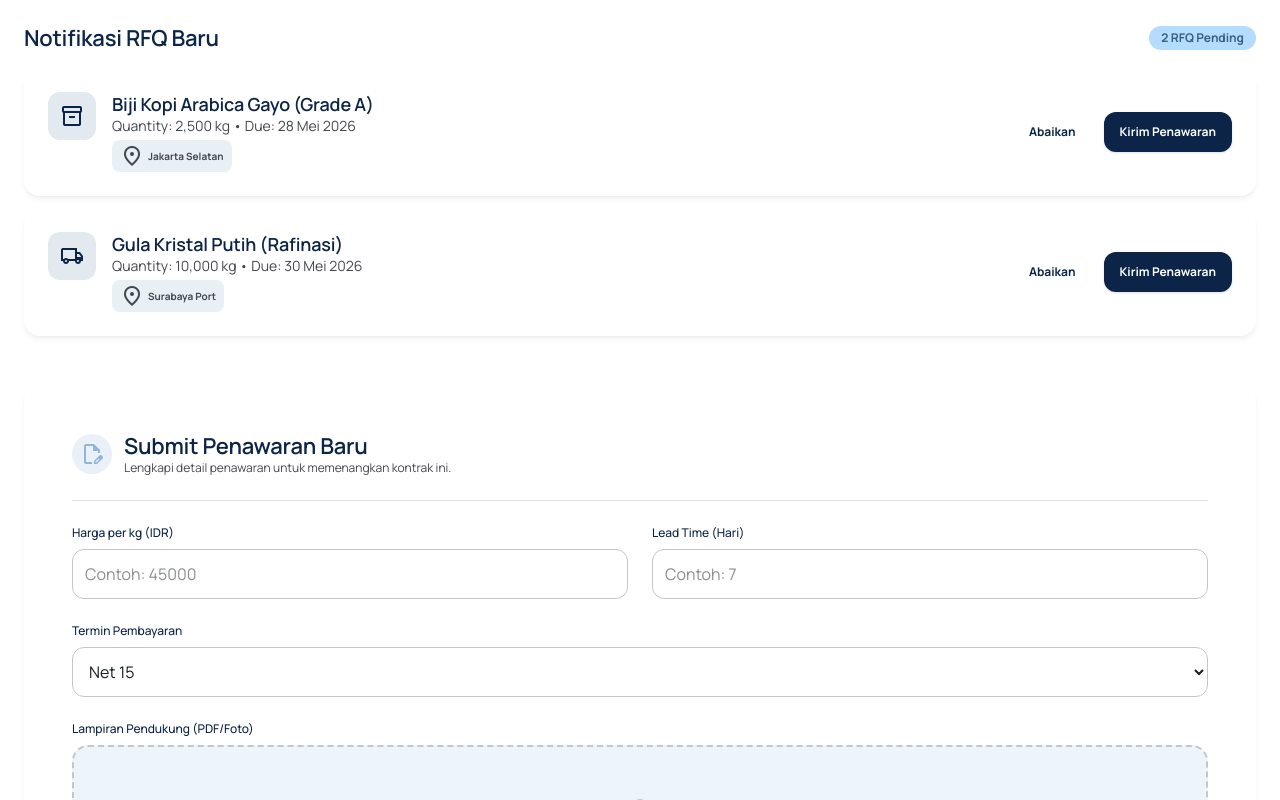
Test case: VendorPortalPage › removes a notification and toasts when dismissed
Click the button "Abaikan" in the row of "Biji Kopi Arabica Gayo (Grade A)": (1052, 132) [1013, 112, 1092, 152]
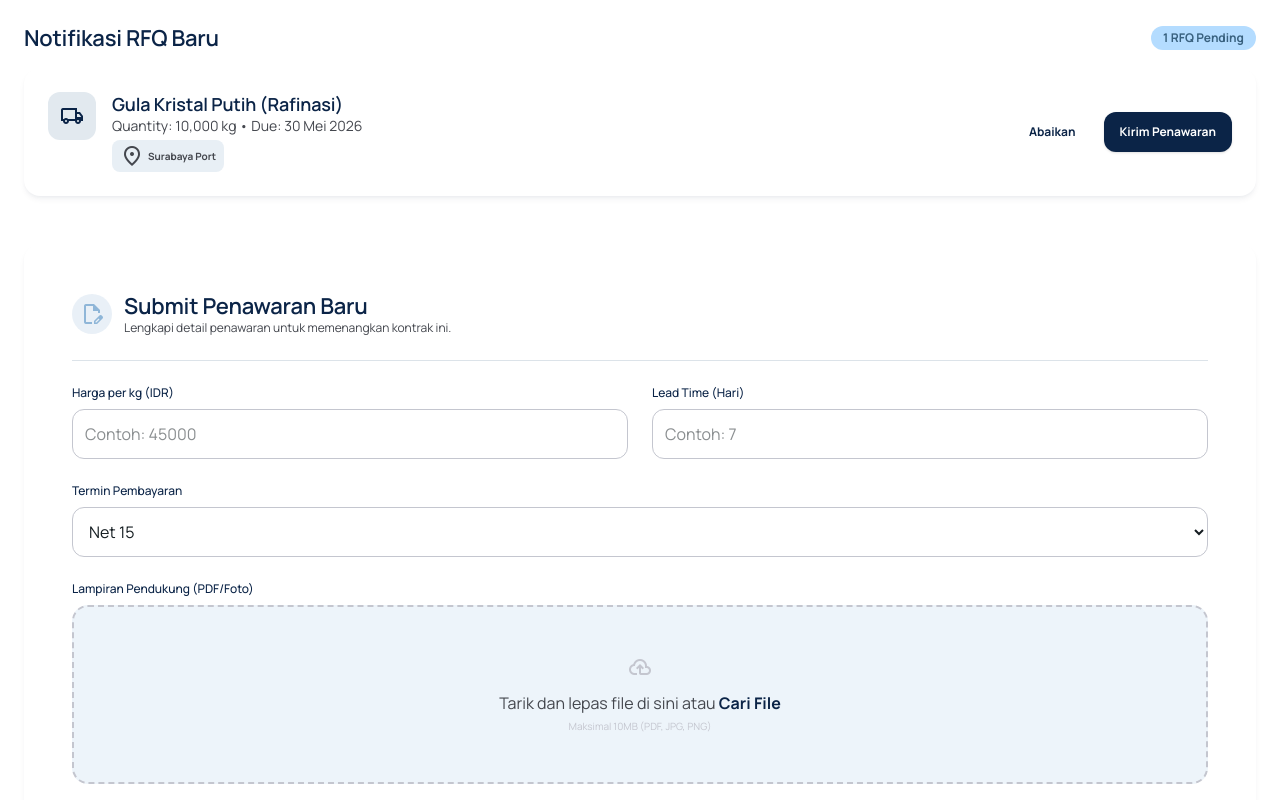
Expected: the heading "Biji Kopi Arabica Gayo (Grade A)" is gone
